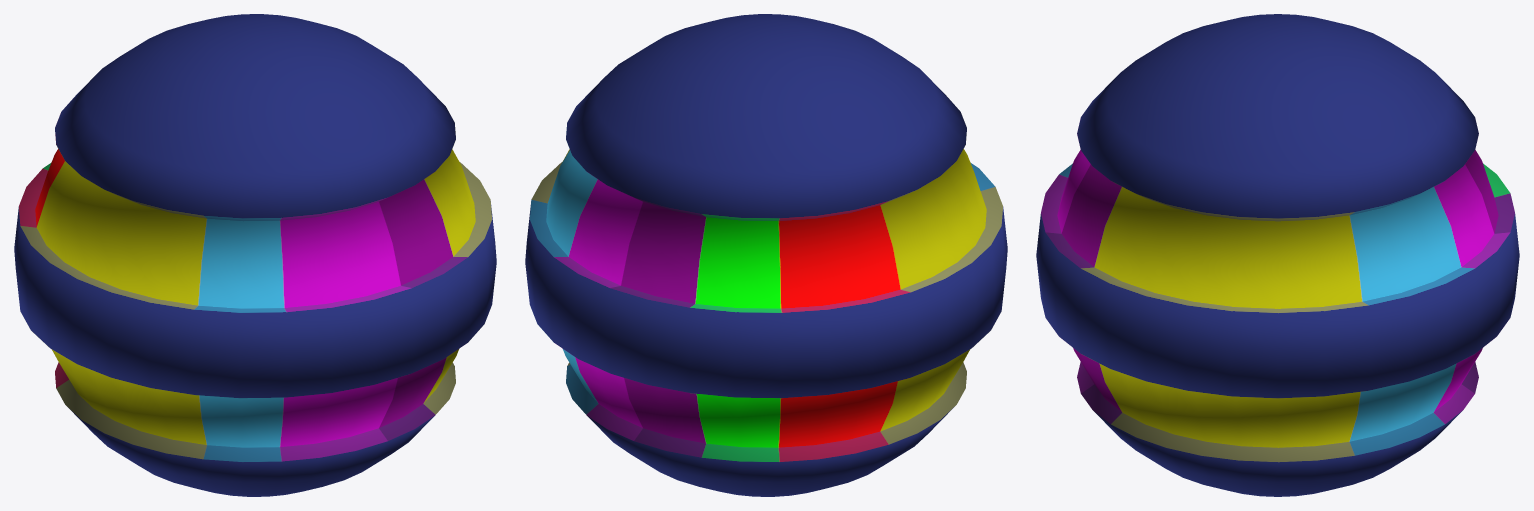
Rendered from PowerUp.fbx.
3 renders of one model, left to right at view 1: azimuth 30°, elevation 25°; view 2: azimuth 150°, elevation 25°; view 3: azimuth 270°, elevation 25°, orthographic.
Parts seen in each view (by area): view 1: Sphere; view 2: Sphere; view 3: Sphere.
Boxes of the visible parts, x1,y1,x2,y2 form: Sphere: (14, 14, 496, 496); Sphere: (525, 14, 1007, 496); Sphere: (1036, 14, 1519, 496).
Bounding box in the file's own units: 200 × 200 × 200.
